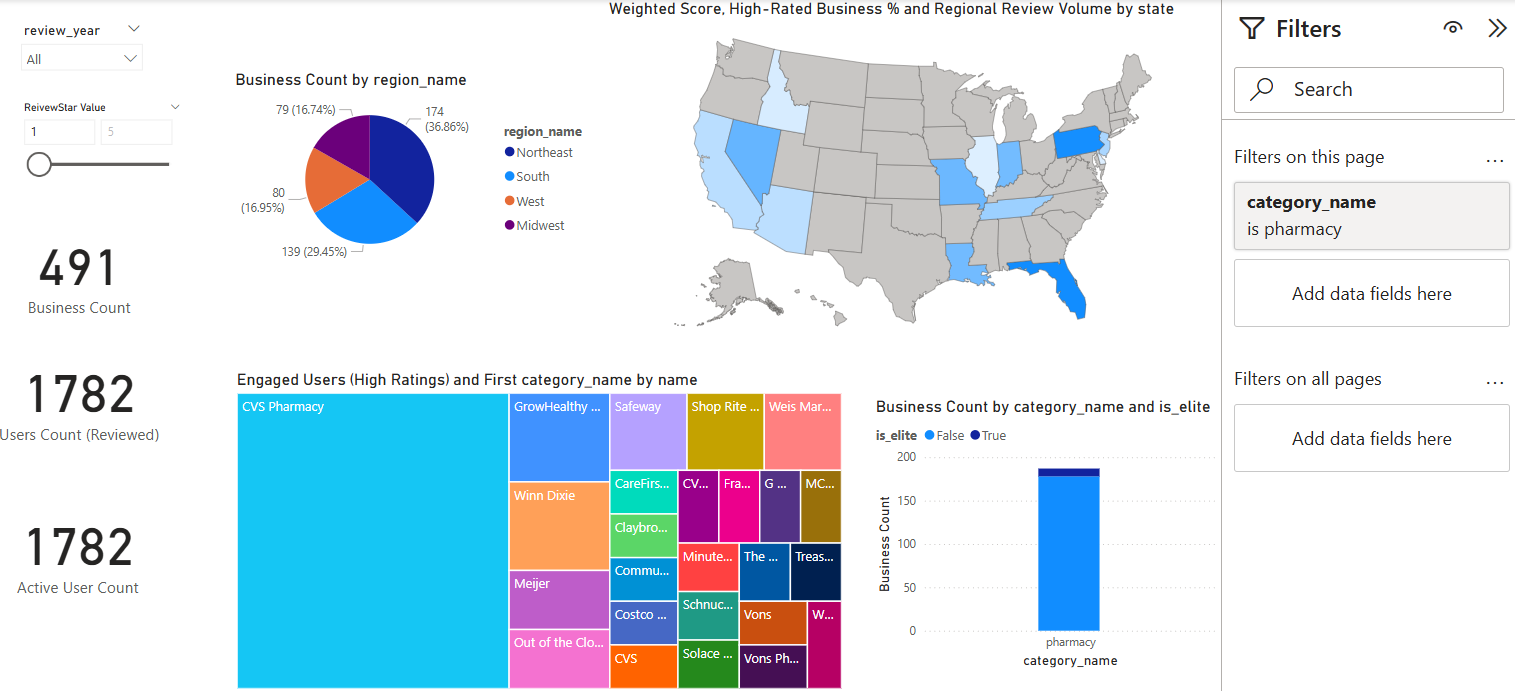

The page's visual inventory and layout, read from the dashboard file:
{"tool":"powerbi","page":{"name":"Page 10","canvas":[1280,720],"ordinal":0},"visuals":[{"type":"slicer","fields":{"Values":["fact_review.review_year"]},"box":[25.7,18.6,145.7,68.6],"z":0},{"type":"card","fields":{"Values":["dim_business_data.Business Count"]},"box":[25.7,230,140,102.9],"z":1000},{"type":"card","fields":{"Values":["fact_user_metrics.Active User Count"]},"box":[0,520,190,102.9],"z":2000},{"type":"card","fields":{"Values":["Measures_Report.Users Count (Reviewed)"]},"box":[0,360,192.9,102.9],"z":3000},{"type":"pieChart","fields":{"Category":["dim_state_mapping.region_name"],"Y":["dim_business_data.Business Count"]},"box":[252.9,72.9,387.1,208.6],"z":4000},{"type":"shapeMap","fields":{"Category":["dim_state_mapping.state"],"Value":["Measures_Report.Weighted Score"]},"box":[640,0,640,360],"z":5000},{"type":"treemap","fields":{"Values":["Measures_Report.UsersRatedAbove4"],"Group":["dim_business_data.name"]},"box":[254.3,384.3,637.1,335.7],"z":6000},{"type":"slicer","fields":{"Values":["ReviewStarThreshold.ReivewStar Value"]},"box":[25.7,101.4,187.1,95.7],"z":7000},{"type":"columnChart","fields":{"Category":["dim_category.category_name"],"Y":["dim_business_data.Business Count"],"Series":["fact_user_metrics.is_elite"]},"box":[917.1,411.4,362.9,285.7],"z":8000}]}

Visuals, with their boxes on the page's 1280x720 design canvas (x1, y1, x2, y2). These are canvas units, not pixel positions in the 1515x691 screenshot, which may show the page scaled, cropped or inside an application window:
slicer - fact_review.review_year: 26, 19, 171, 87
card - dim_business_data.Business Count: 26, 230, 166, 333
card - fact_user_metrics.Active User Count: 0, 520, 190, 623
card - Measures_Report.Users Count (Reviewed): 0, 360, 193, 463
pieChart - dim_state_mapping.region_name x dim_business_data.Business Count: 253, 73, 640, 282
shapeMap - dim_state_mapping.state x Measures_Report.Weighted Score: 640, 0, 1280, 360
treemap - Measures_Report.UsersRatedAbove4 x dim_business_data.name: 254, 384, 891, 720
slicer - ReviewStarThreshold.ReivewStar Value: 26, 101, 213, 197
columnChart - dim_category.category_name x dim_business_data.Business Count: 917, 411, 1280, 697
